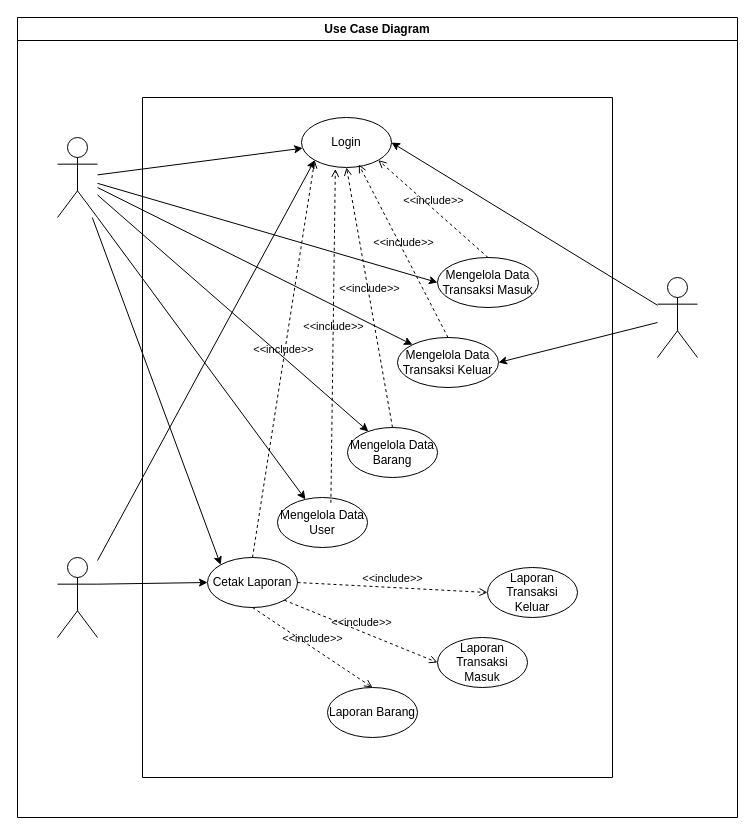
The diagram is 755 pixels wide and 835 high, and some of its shapes have lost their labels. The shapes that lost their labels are listed below. From the top down, each one's centre as x and y in pixels, then its label:
At point 77,177: "Admin".
At point 677,317: "Operator".
At point 77,597: "Kepala Sekolah".
